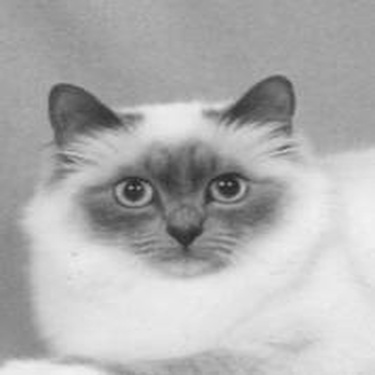cat: (24, 77, 371, 370)
